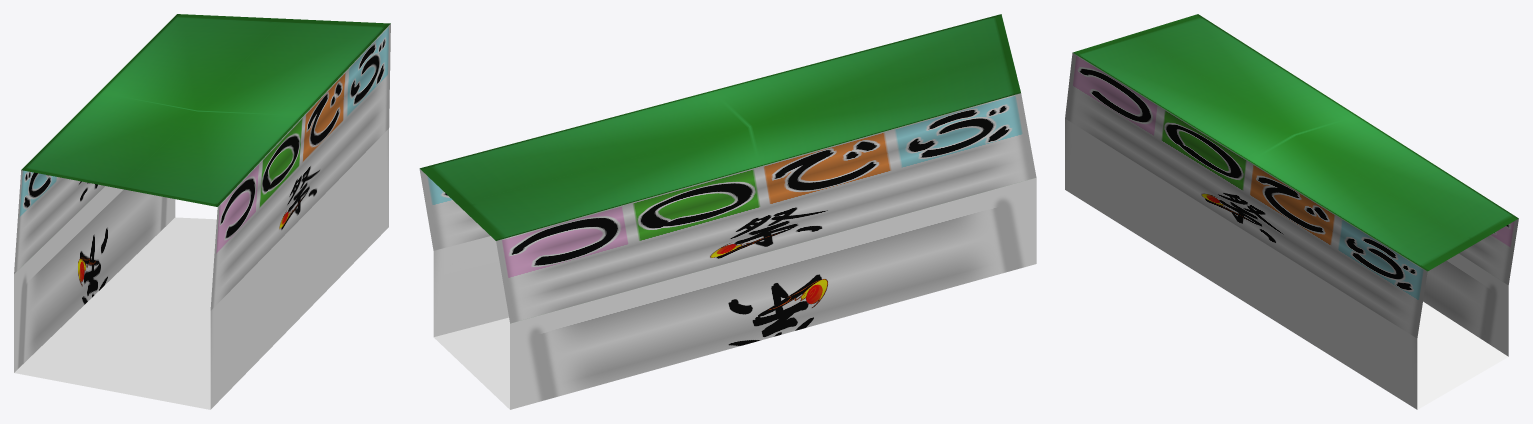
Rendered from CourseAki_Wall_R_9_3.fbx.
3 renders of one model, left to right at view 1: azimuth 30°, elevation 25°; view 2: azimuth 150°, elevation 25°; view 3: azimuth 270°, elevation 25°, orthographic. The views are drawn at different scales.
Visible parts, largest first — view 1: polySurface346; view 2: polySurface346; view 3: polySurface346.
Part boxes in pixels (left/top/right/bottom): polySurface346: left=14, top=14, right=390, bottom=409; polySurface346: left=419, top=14, right=1036, bottom=409; polySurface346: left=1065, top=14, right=1518, bottom=409.
Bounding box in the file's own units: 5.74 × 2.99 × 5.77.
Materials: 1 (1 with a texture image).
